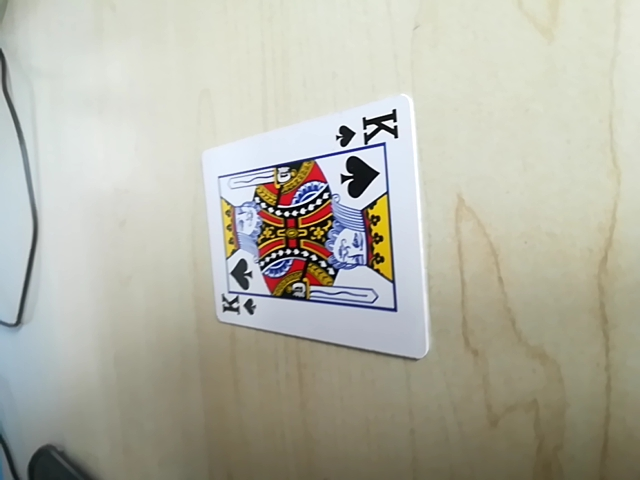ht k: (332, 106, 403, 149), (214, 288, 258, 322)
